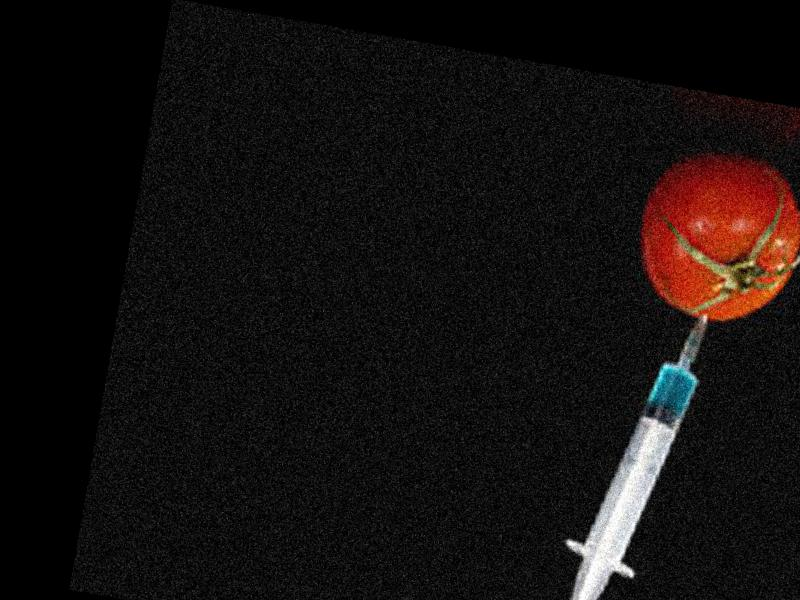Tomato: (626, 145, 800, 335)
